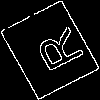R: (25, 25, 86, 79)
